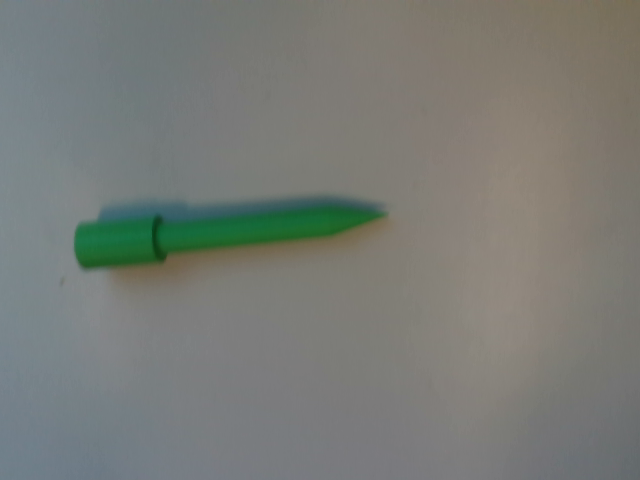Probe: (70, 194, 397, 274)
